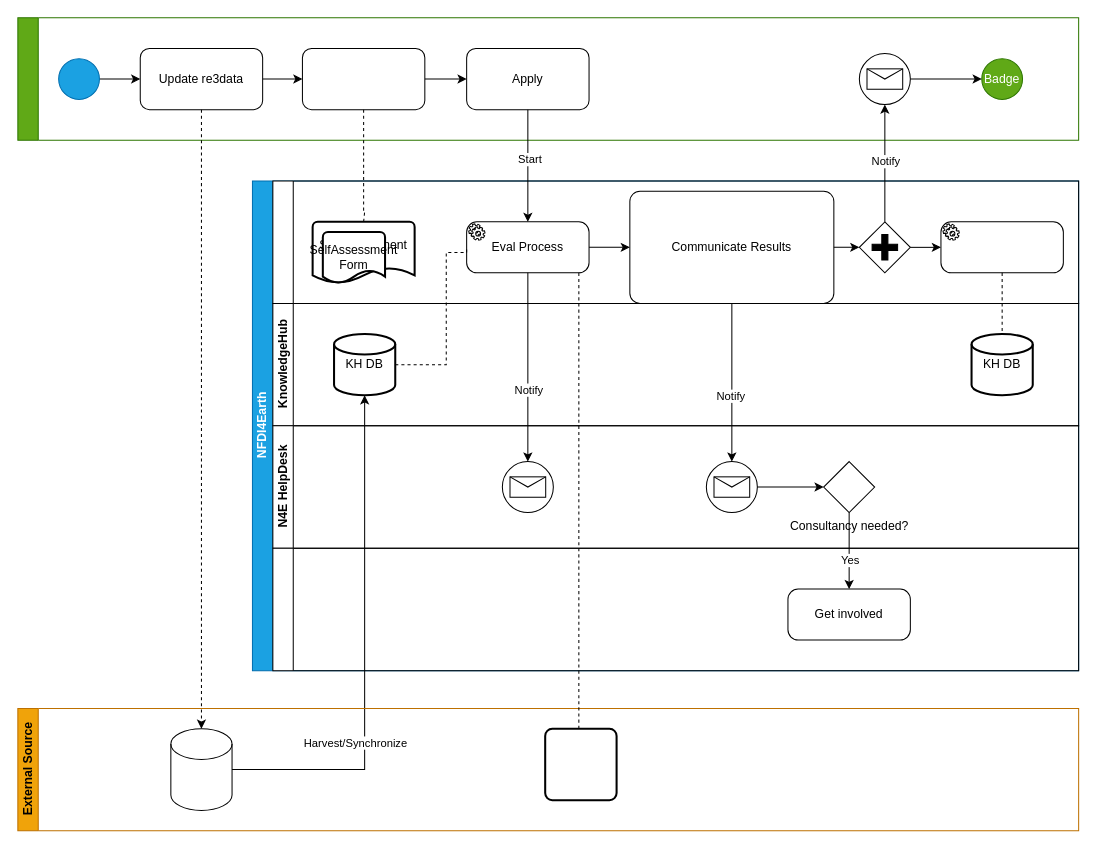
This 1097x849 diagram has some shape labels left out. The box of each missing label's shape, as (x1, y1, x2, y2) in pixels:
Applicant: (17, 17, 1079, 140)
Do SelfAssessment: (301, 47, 425, 110)
Fuji-Tool (AAS or self hosted): (544, 727, 617, 801)
N4E Consultant: (272, 547, 1079, 671)
OneStop4All: (272, 180, 1079, 303)
re 3 data: (170, 728, 232, 810)
Update Catalog: (940, 221, 1063, 273)
